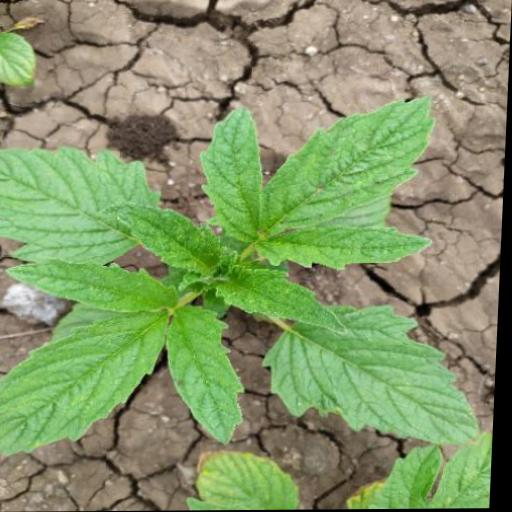crop: (0, 99, 490, 464)
